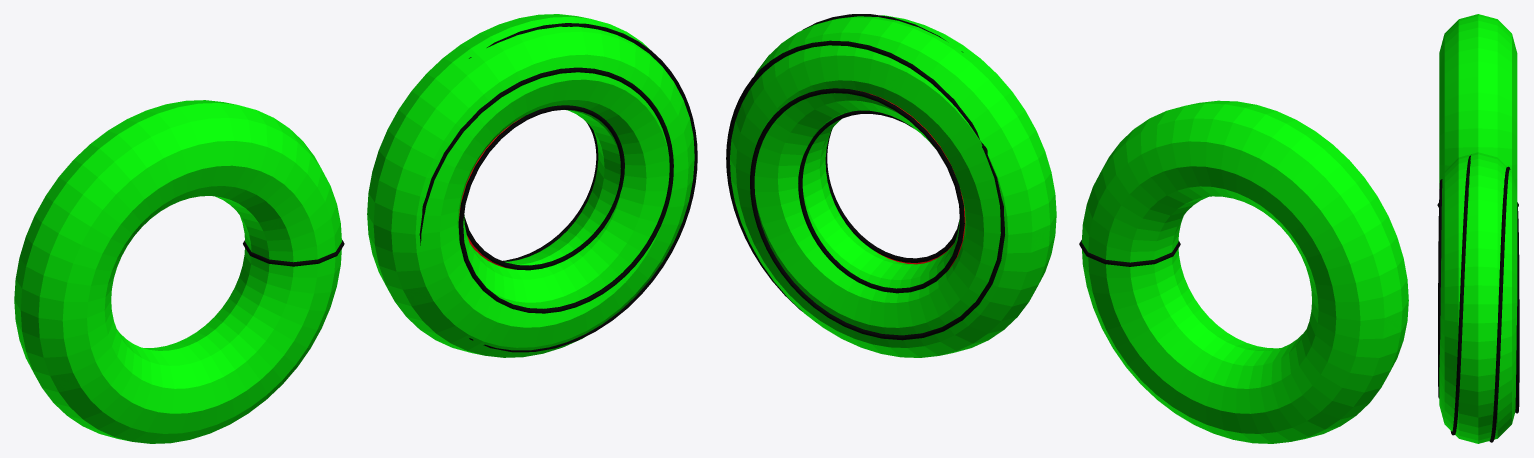
The model's file is l6_1_website.glb.
3 views of the same model, side by side, from view 1: azimuth 30°, elevation 25°; view 2: azimuth 150°, elevation 25°; view 3: azimuth 270°, elevation 25° (orthographic). The views are drawn at different scales.
Visible parts, largest first — view 1: Torus1, Torus2, boundary; view 2: Torus1, Torus2, boundary; view 3: Torus2, Torus1, boundary.
Part boxes in pixels (x1=…): Torus1: x1=14, y1=100, x2=341, y2=443; Torus2: x1=367, y1=14, x2=694, y2=357; boundary: x1=419, y1=23, x2=697, y2=352; Torus1: x1=1081, y1=100, x2=1408, y2=443; Torus2: x1=730, y1=15, x2=1056, y2=357; boundary: x1=726, y1=14, x2=1004, y2=340; Torus2: x1=1439, y1=152, x2=1517, y2=443; Torus1: x1=1439, y1=14, x2=1517, y2=190; boundary: x1=1438, y1=155, x2=1519, y2=442.
Size of the model in its own units: 318 by 150 by 42.23.
